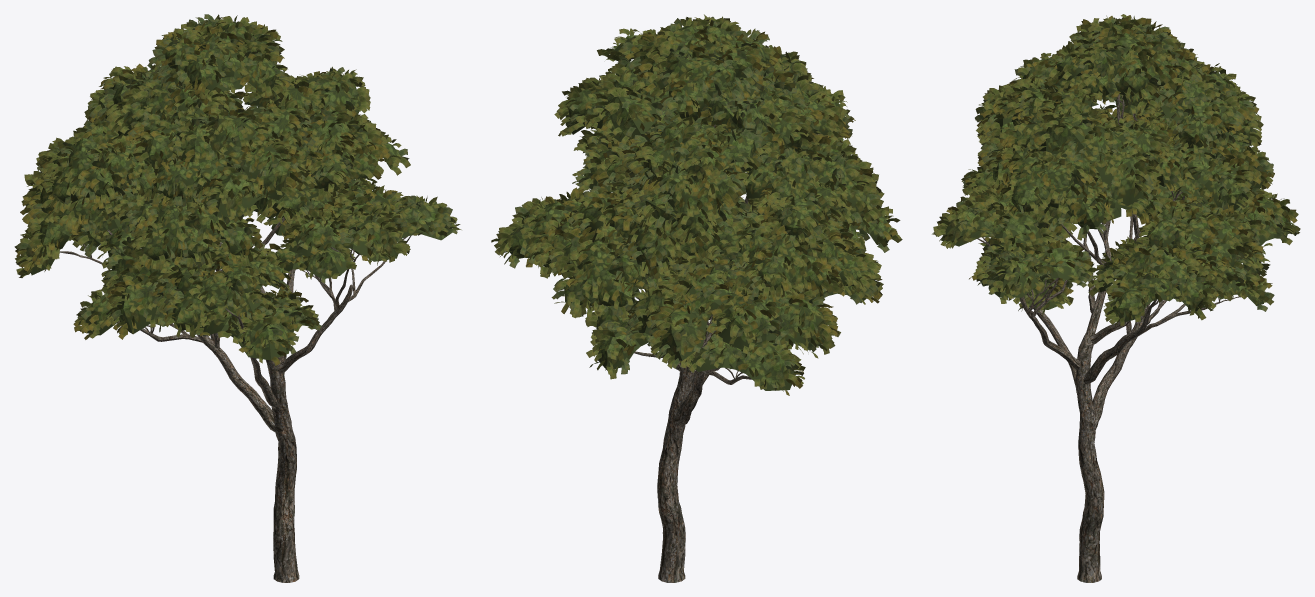
File: Fast-tree.fbx
3 views of the same model, side by side, from view 1: azimuth 30°, elevation 25°; view 2: azimuth 150°, elevation 25°; view 3: azimuth 270°, elevation 25° (orthographic). The views are drawn at different scales.
Visible parts, largest first — view 1: trunk; view 2: trunk; view 3: trunk.
Part boxes in pixels (box(x1,y1,x2,y2)): trunk: box(14, 14, 461, 582); trunk: box(491, 14, 902, 582); trunk: box(932, 14, 1300, 582).
Size of the model in its own units: 629 by 946 by 597.
